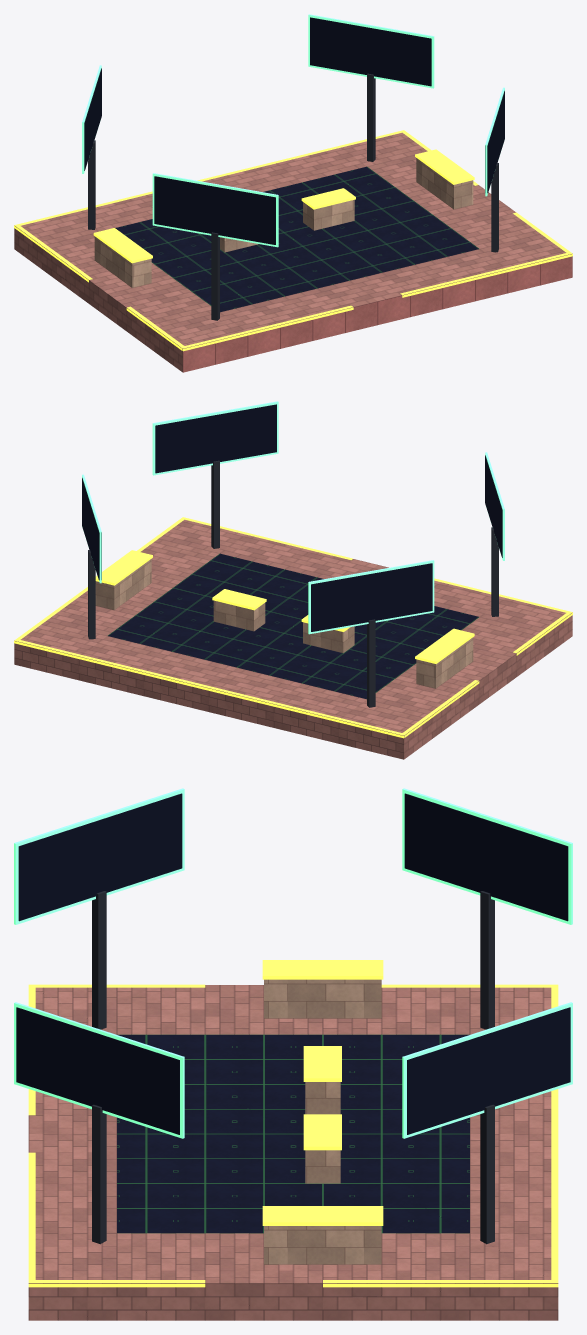
Rendered from skyreach_garden_v13.glb.
3 renders of one model, top to bottom at view 1: azimuth 30°, elevation 25°; view 2: azimuth 150°, elevation 25°; view 3: azimuth 270°, elevation 25°, orthographic. The views are drawn at different scales.
Parts seen in each view (by area): view 1: skyreach_garden_v13; view 2: skyreach_garden_v13; view 3: skyreach_garden_v13.
Part boxes in pixels (x1,y1,x2,y2): skyreach_garden_v13: (14,14,572,372); skyreach_garden_v13: (14,401,572,759); skyreach_garden_v13: (14,788,572,1320).
Size of the model in its own units: 24.02 by 9.32 by 19.
9 materials, 5 textured.
